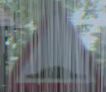Speed Breaker ahead: (4, 10, 95, 85)
